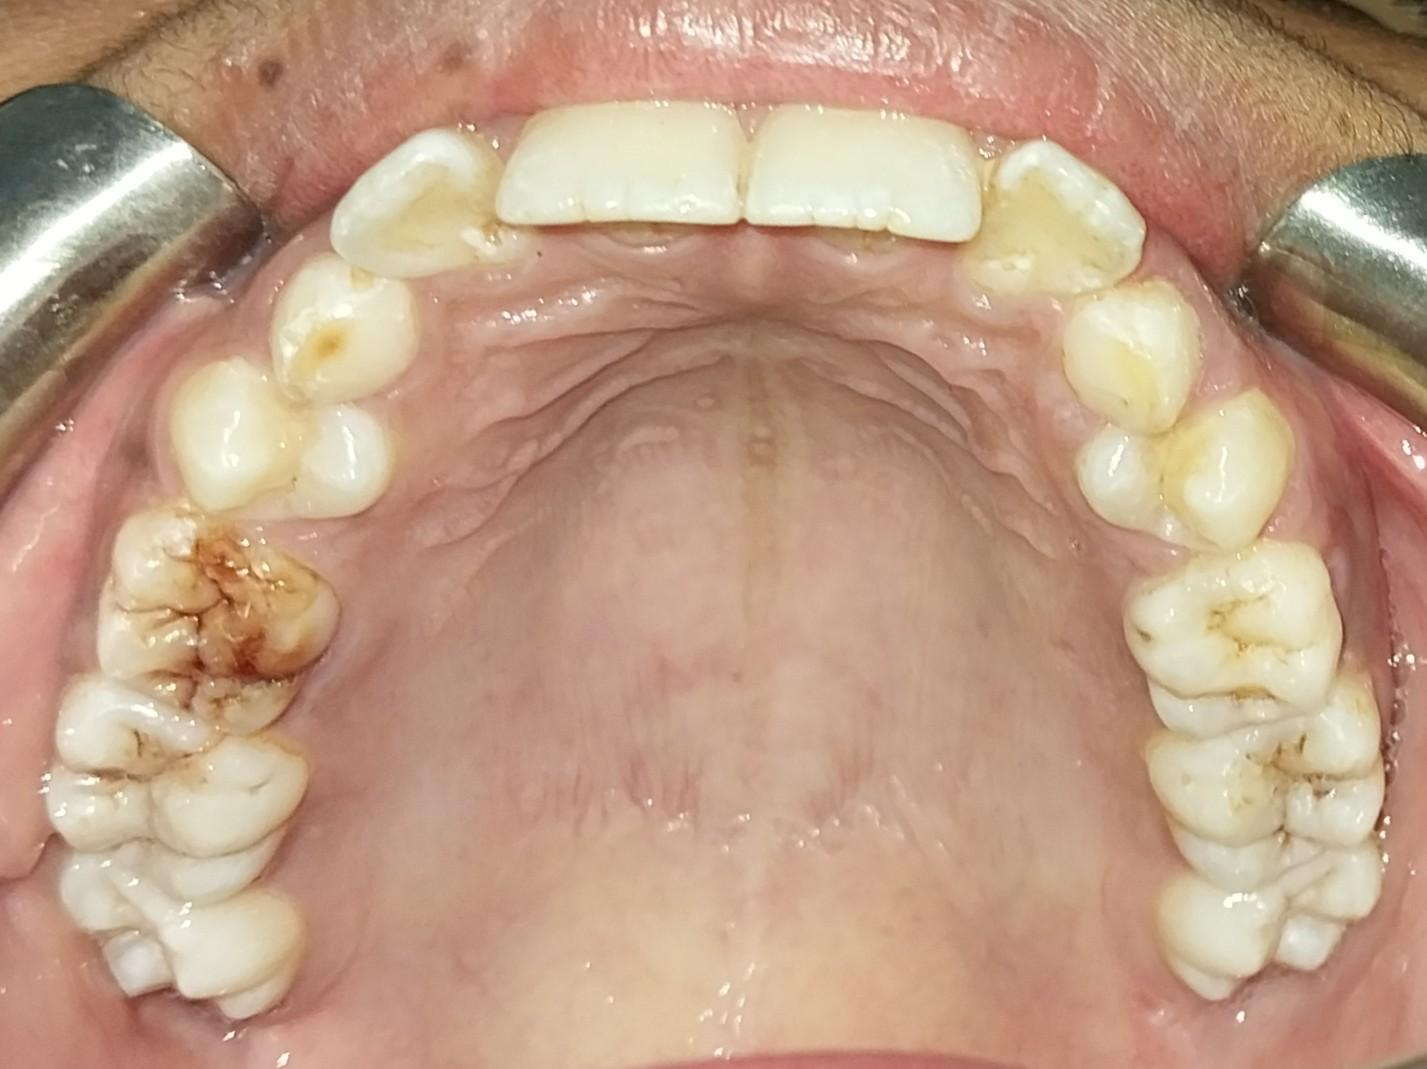D: (44, 683, 309, 903), (90, 509, 336, 740), (1144, 686, 1407, 880)
